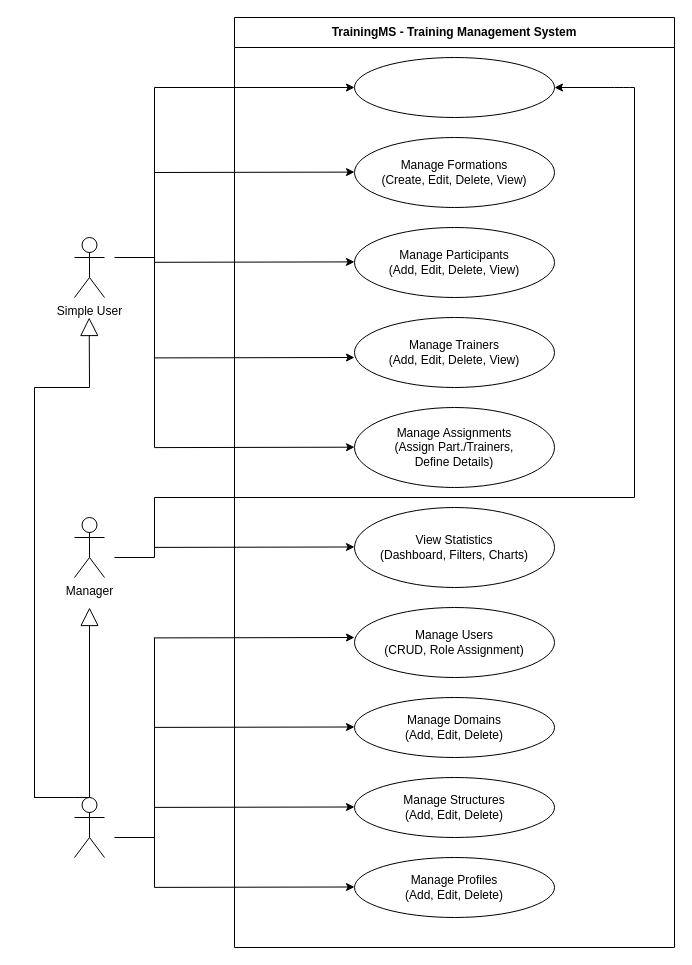
Some shapes in this 692 by 965 pixel diagram are drawn without their labels. The centre of each missing label's shape, as x and y in pixels:
"Administrator" goes at pixel 89 827.
"Authentication (Login / Logout)" goes at pixel 454 87.
